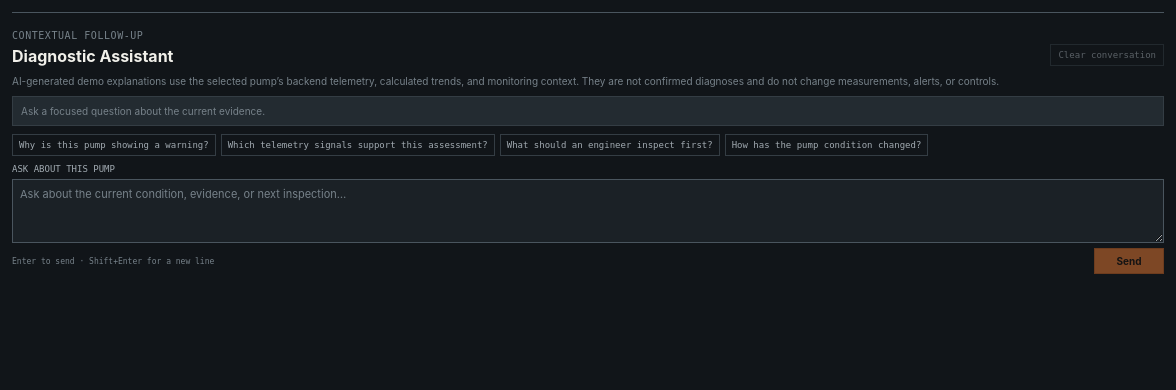
Test: DiagnosticChat › renders escaped bold Markdown safely without interpreting HTML
The width and height of the screenshot is (1176, 390).
Replace the text in the text box labelled "Ask about this pump" with "Summarize the status" at point(588, 211), box [12,179,1164,243]
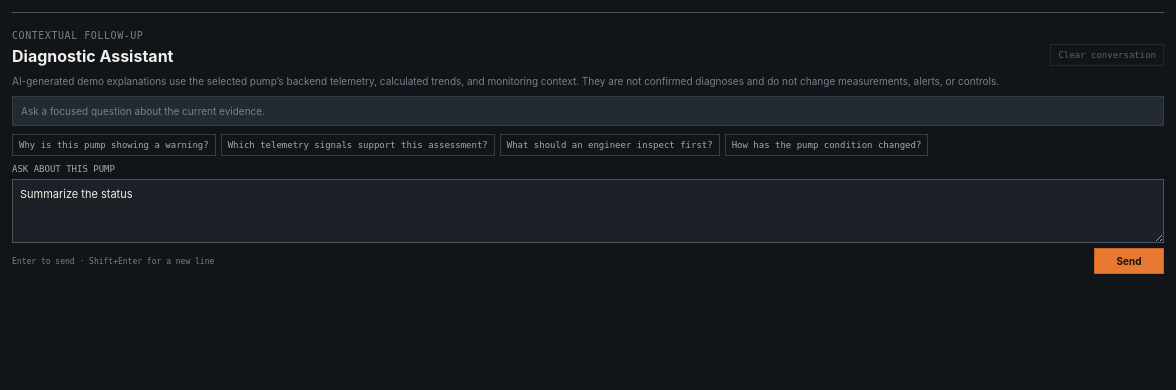
Click the button "Send" at point(1129, 261), box [1094,248,1164,274]
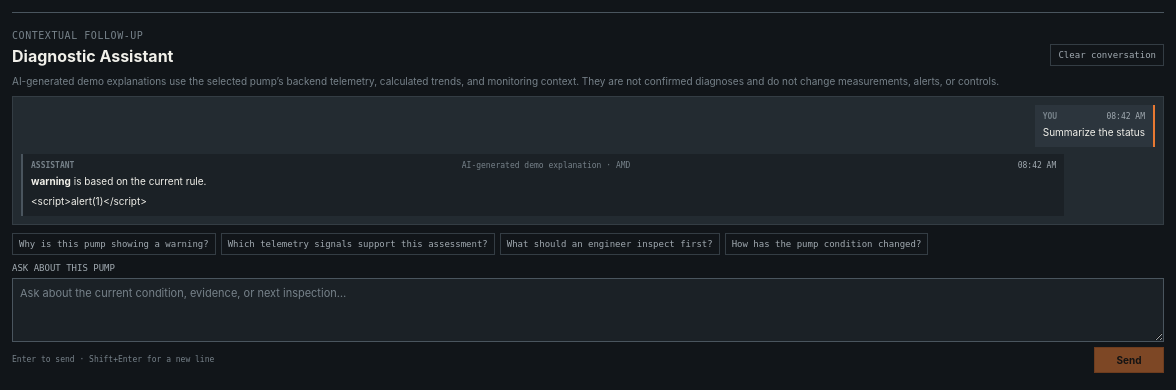
Now the text "warning" is shown, box [31,174,71,186]
Now the text "AI-generated demo explanation · AMD" is shown, box [462,160,630,170]
Now the text "<script>alert(1)</script>" is shown, box [31,195,147,207]
